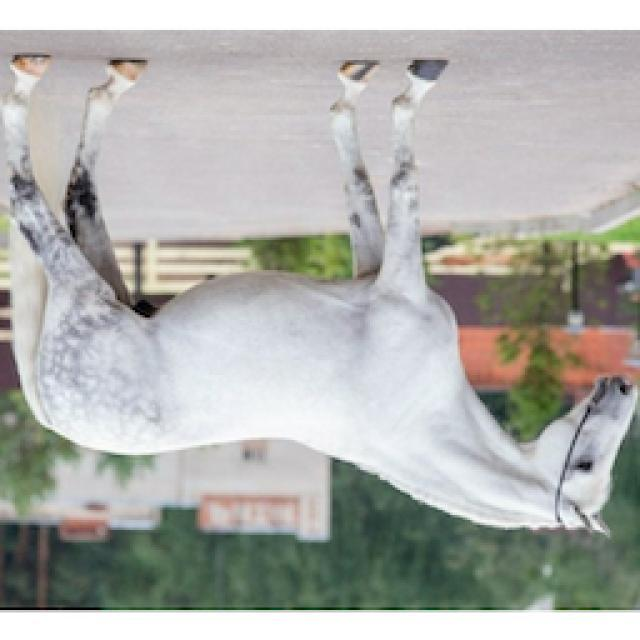Horse: (2, 50, 640, 545)
